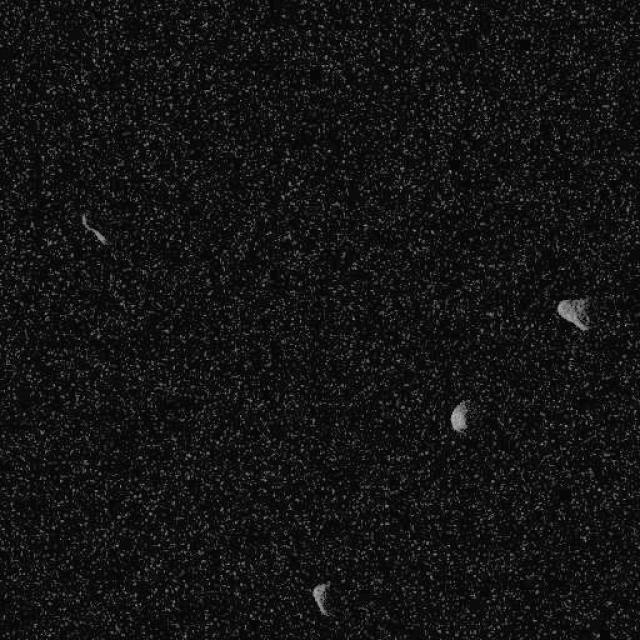D2: (555, 295, 591, 331), (79, 212, 109, 248), (312, 580, 332, 618), (449, 398, 469, 432)
